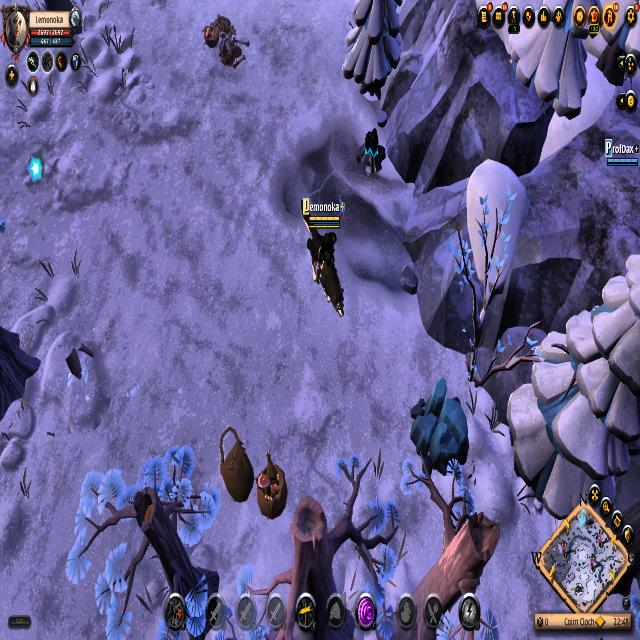ore tier 4: (359, 126, 387, 177)
rock tier 4: (410, 376, 470, 468)
